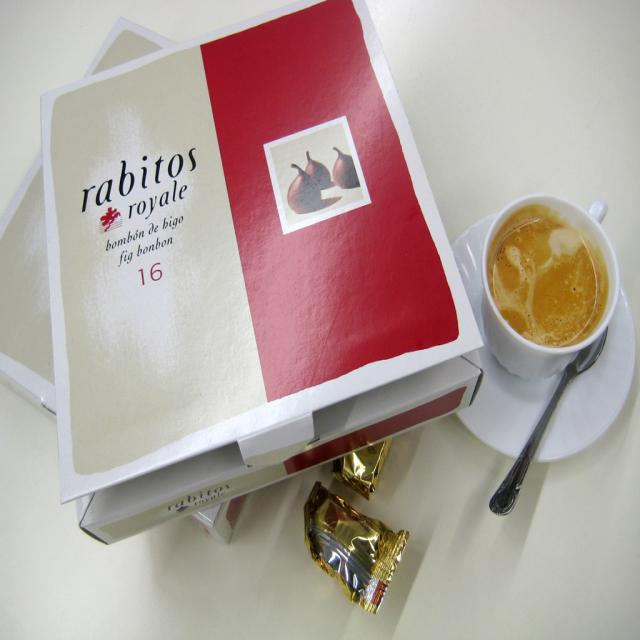Coffee: (486, 193, 618, 394)
